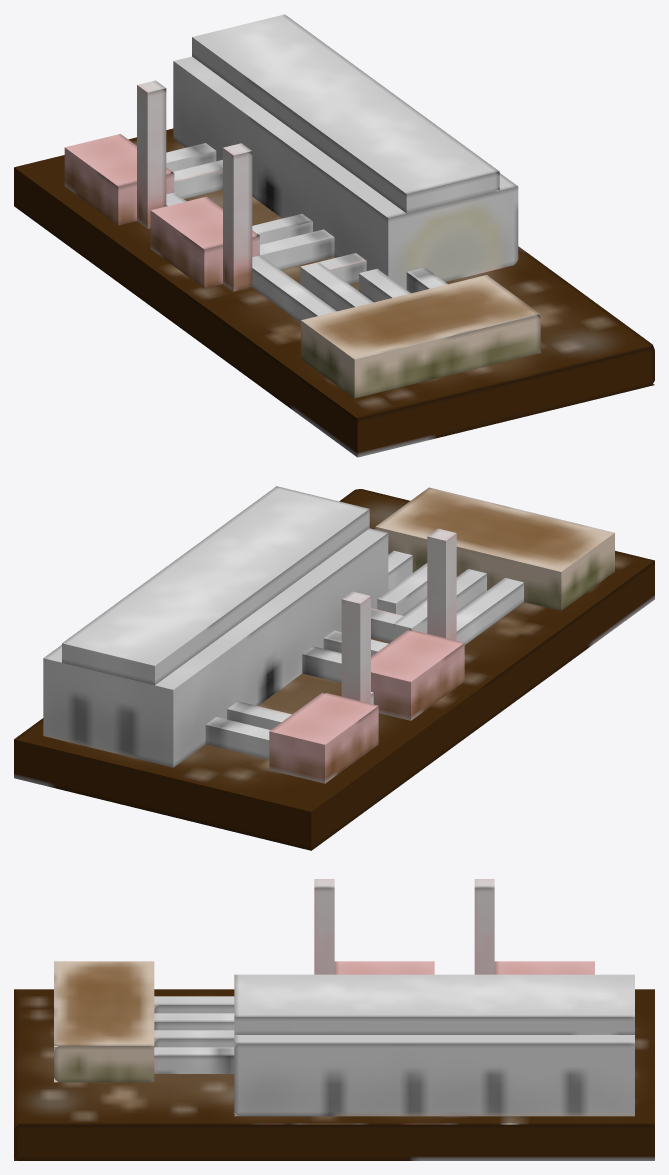
Rendered from geothermal_plant.fbx.
3 views of the same model, one above another, from view 1: azimuth 30°, elevation 25°; view 2: azimuth 150°, elevation 25°; view 3: azimuth 270°, elevation 25° (orthographic). The views are drawn at different scales.
Visible parts, largest first — view 1: cube, cube_1, cube_14, cube_4, cube_3, cube_16, cube_15, cube_2, cube_9, cube_13, cube_7, cube_11 (+5 smaller); view 2: cube, cube_1, cube_14, cube_4, cube_3, cube_16, cube_15, cube_2, cube_9, cube_10, cube_7, cube_6 (+4 smaller); view 3: cube, cube_1, cube_14, cube_4, cube_5, cube_2, cube_15, cube_6, cube_7, cube_9, cube_3, cube_16.
Boxes of the visible parts, x1,y1,x2,y2 form: cube: [14, 128, 654, 457]; cube_1: [173, 56, 518, 289]; cube_14: [192, 14, 499, 213]; cube_4: [301, 275, 540, 398]; cube_3: [64, 134, 174, 225]; cube_16: [150, 196, 259, 288]; cube_15: [223, 143, 252, 291]; cube_2: [137, 80, 166, 228]; cube_9: [166, 192, 336, 322]; cube_13: [260, 229, 334, 269]; cube_7: [300, 262, 373, 311]; cube_11: [173, 159, 222, 198]; cube: [14, 489, 654, 850]; cube_1: [43, 528, 388, 767]; cube_14: [62, 486, 369, 685]; cube_4: [375, 487, 614, 610]; cube_3: [269, 692, 378, 783]; cube_16: [371, 629, 464, 720]; cube_15: [427, 528, 456, 640]; cube_2: [341, 591, 370, 703]; cube_9: [371, 578, 523, 704]; cube_10: [205, 717, 270, 759]; cube_7: [393, 569, 486, 640]; cube_6: [377, 563, 427, 615]; cube: [14, 989, 654, 1160]; cube_1: [234, 1035, 634, 1116]; cube_14: [234, 974, 634, 1034]; cube_4: [54, 961, 154, 1082]; cube_5: [154, 1047, 234, 1073]; cube_2: [474, 879, 494, 974]; cube_15: [314, 879, 334, 974]; cube_6: [154, 1030, 235, 1047]; cube_7: [154, 1013, 234, 1030]; cube_9: [154, 996, 234, 1013]; cube_3: [494, 961, 594, 974]; cube_16: [334, 961, 434, 974].
Size of the model in its own units: 500 by 281 by 1000.
1 material, 1 textured.
